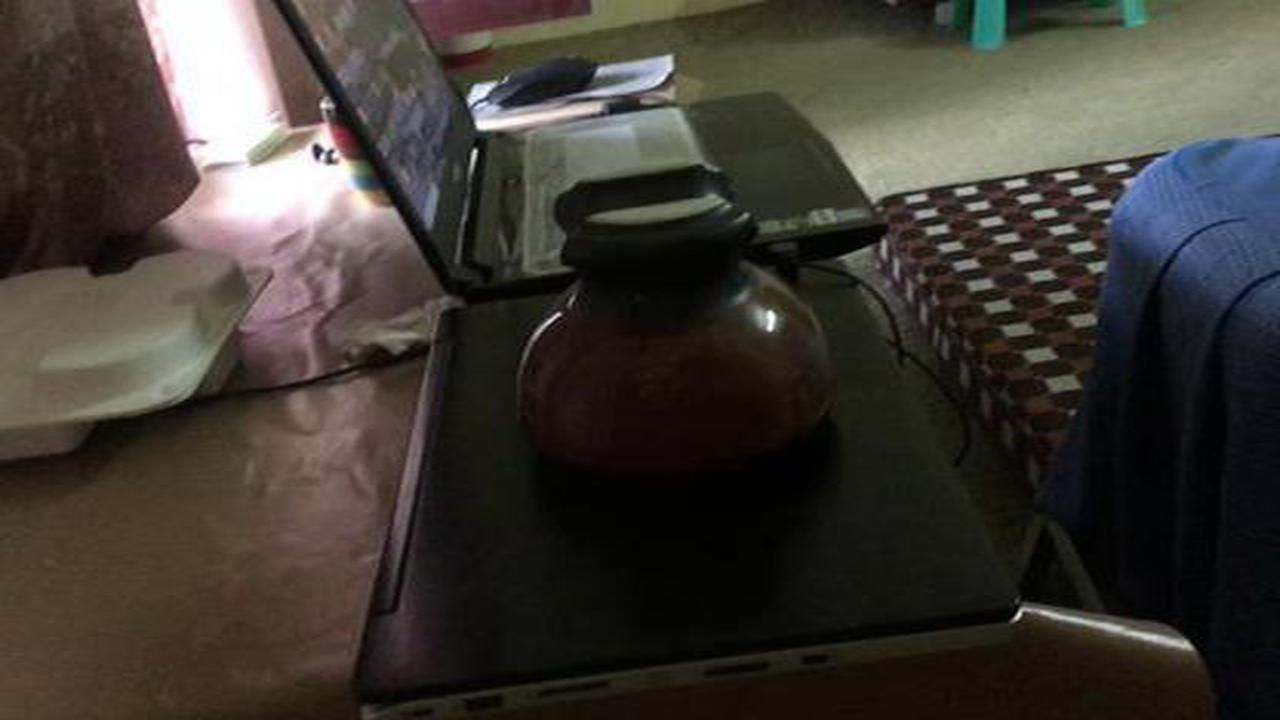insulator_pin: (502, 158, 874, 515)
